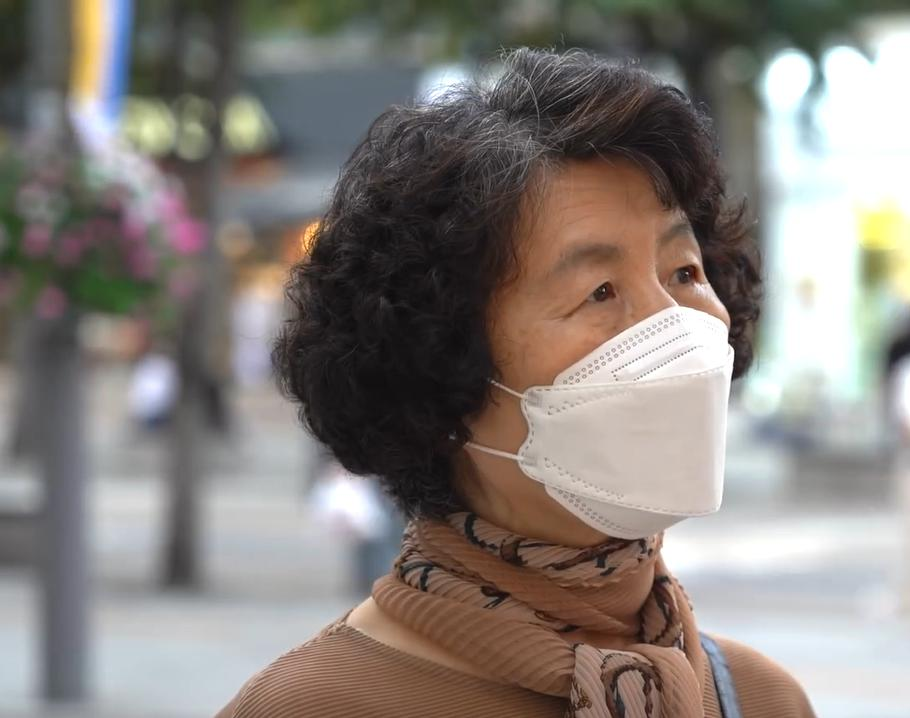with_mask: (520, 221, 698, 500)
